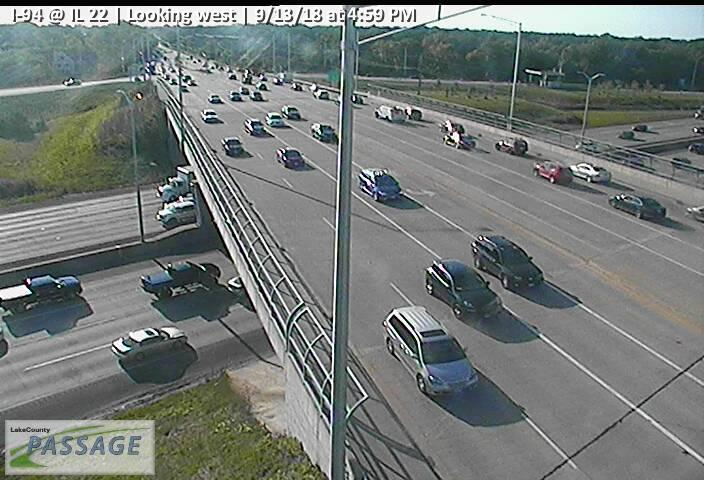SUV: (381, 305, 478, 398), (424, 259, 501, 319), (472, 231, 543, 288), (359, 168, 401, 203), (571, 161, 611, 183)
Sedan: (110, 324, 187, 361), (608, 192, 665, 219), (532, 160, 568, 183), (277, 148, 304, 170), (310, 121, 335, 141), (245, 117, 265, 137), (222, 136, 242, 155), (267, 113, 283, 129), (200, 108, 218, 122), (284, 105, 300, 119), (313, 89, 330, 100), (229, 91, 241, 102), (618, 130, 633, 138), (208, 94, 220, 102)
Truck: (1, 274, 82, 316), (140, 259, 220, 296), (156, 164, 195, 200), (372, 103, 405, 122)
